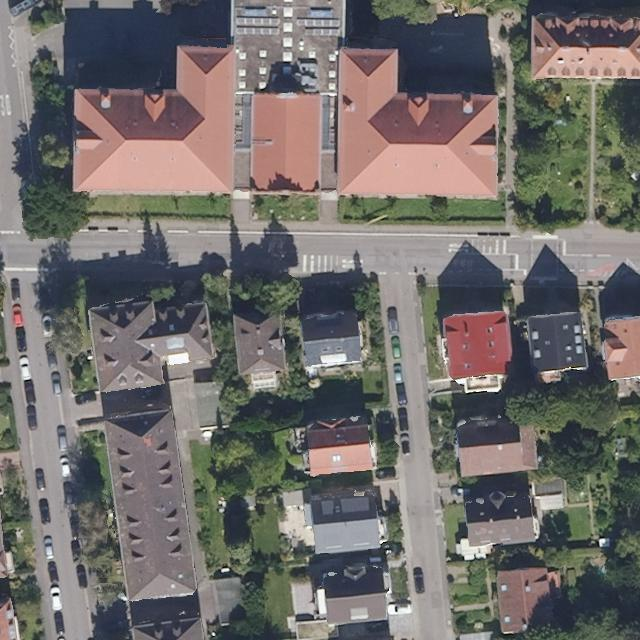PV: (235, 6, 280, 38), (297, 7, 341, 36)
